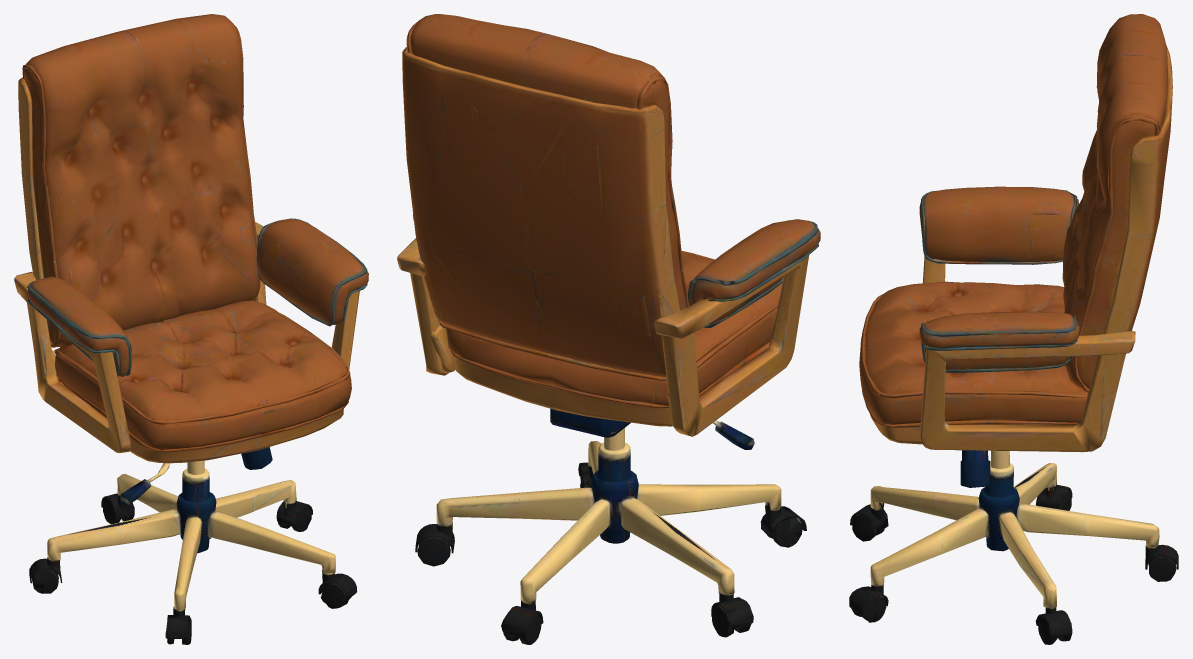
Rendered from chair_office_leather.glb.
3 views of the same model, side by side, from view 1: azimuth 30°, elevation 25°; view 2: azimuth 150°, elevation 25°; view 3: azimuth 270°, elevation 25° (orthographic). The views are drawn at different scales.
Parts seen in each view (by area): view 1: prop; view 2: prop; view 3: prop.
Part boxes in pixels (x1,y1,x2,y2): prop: [14, 14, 368, 644]; prop: [397, 14, 820, 644]; prop: [849, 14, 1178, 644].
Bounding box in the file's own units: 0.6905 × 1.15 × 0.6574.
Materials: 1 (1 with a texture image).
